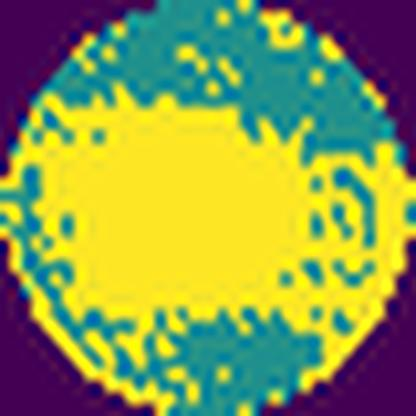Edge-Loc: (0, 86, 415, 410)
